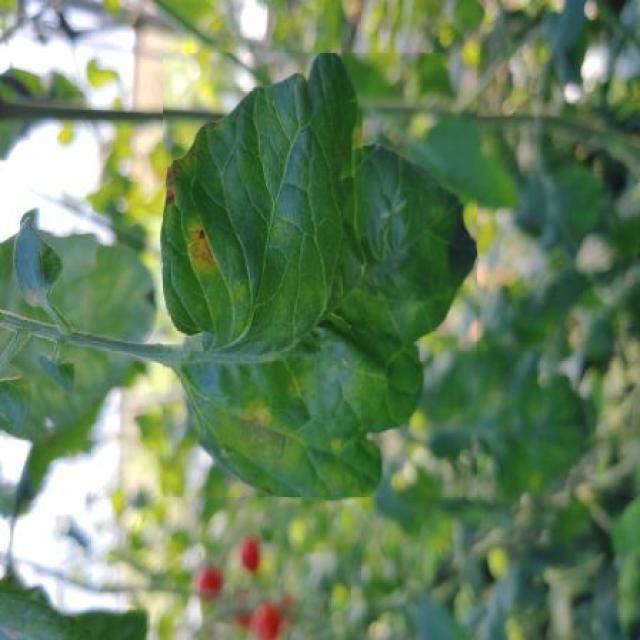Leaf Mold: (162, 53, 478, 497)
